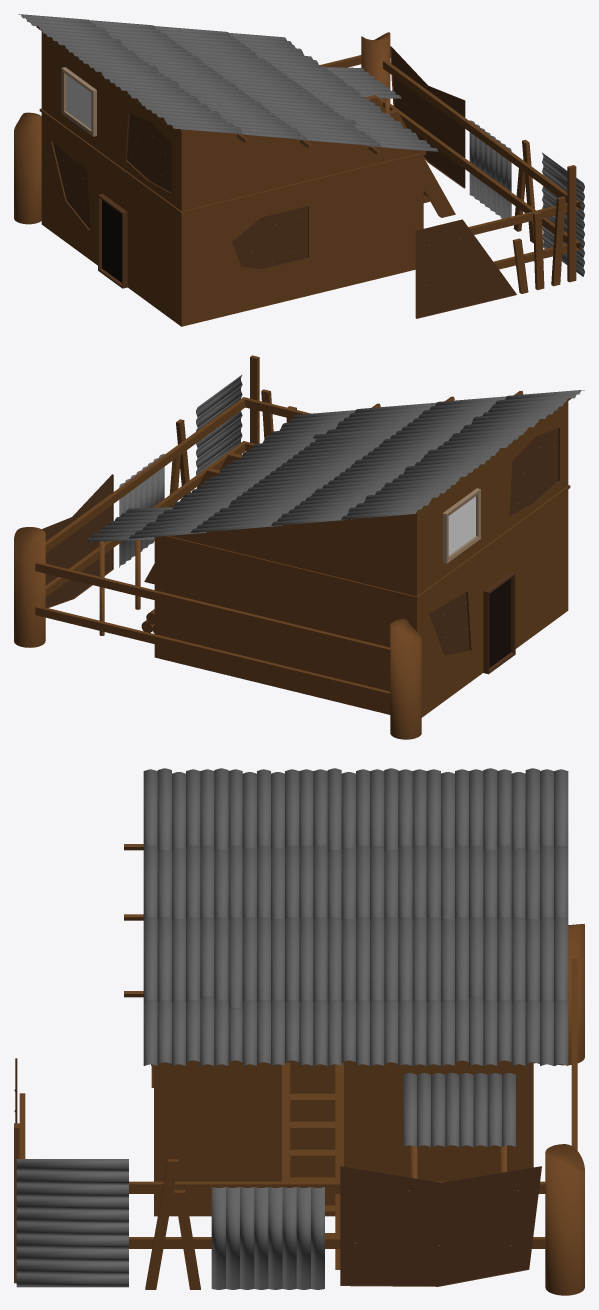
The model's file is PAHouse.fbx.
3 renders of one model, top to bottom at view 1: azimuth 30°, elevation 25°; view 2: azimuth 150°, elevation 25°; view 3: azimuth 270°, elevation 25°, orthographic. The views are drawn at different scales.
Parts seen in each view (by area): view 1: House; view 2: House; view 3: House.
Boxes of the visible parts, bbox=[...] form: House: bbox=[14, 14, 584, 326]; House: bbox=[14, 355, 584, 739]; House: bbox=[14, 768, 584, 1295].
Bounding box in the file's own units: 2065 × 1098 × 2017.
